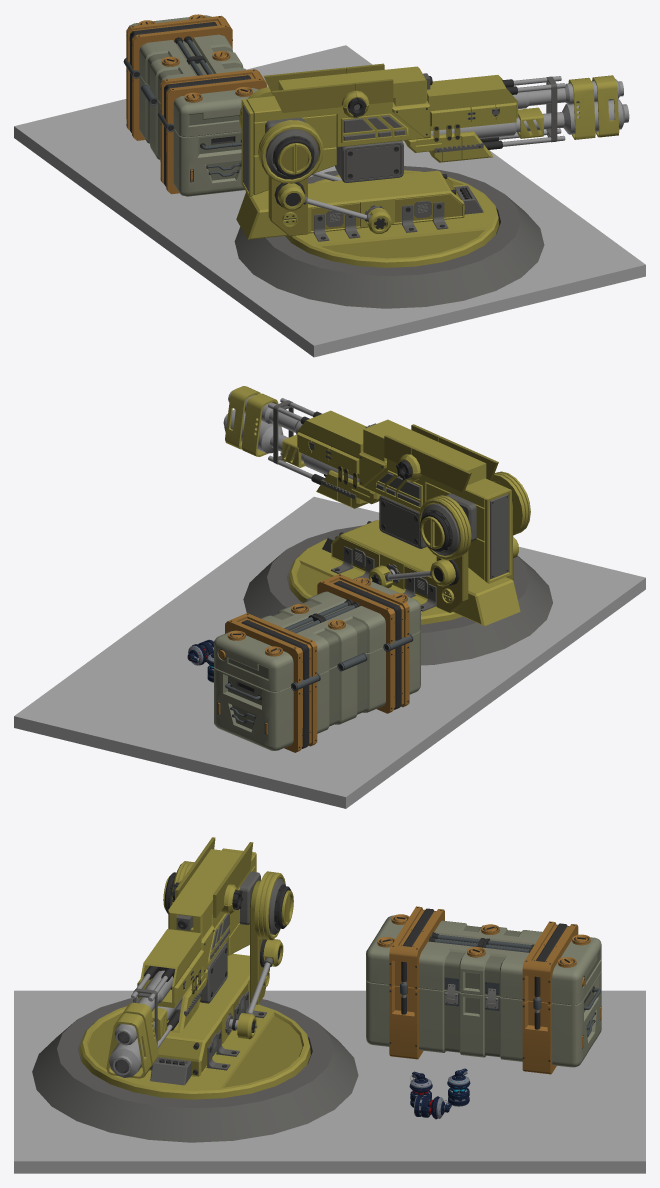
File: All.fbx
The picture shows the model from 3 angles, top to bottom: view 1: azimuth 30°, elevation 25°; view 2: azimuth 150°, elevation 25°; view 3: azimuth 270°, elevation 25°; orthographic projection. The views are drawn at different scales.
Parts seen in each view (by area): view 1: pPlane1, pCylinder22, pCube40, pCylinder23, pCube1, polySurface63, pCube5, pCube9, polySurface28, pCube7, pCube6, pCylinder3 (+14 smaller); view 2: pPlane1, pCube40, pCylinder22, polySurface63, pCube5, pCube1, pCube9, pCylinder23, polySurface28, pCube7, polySurface53, pCube6 (+9 smaller); view 3: pPlane1, pCube40, pCylinder22, pCylinder23, polySurface63, pCube1, pCube7, pCube9, pCube5, polySurface28, polySurface53, pCylinder3 (+11 smaller).
Part boxes in pixels (x1,y1,x2,y2): pPlane1: [14, 45, 645, 357]; pCylinder22: [234, 166, 544, 308]; pCube40: [128, 15, 258, 196]; pCylinder23: [285, 170, 499, 267]; pCube1: [236, 170, 464, 239]; polySurface63: [126, 15, 266, 194]; pCube5: [241, 96, 430, 196]; pCube9: [427, 75, 517, 130]; polySurface28: [263, 63, 393, 112]; pCube7: [278, 66, 426, 106]; pCube6: [335, 141, 403, 182]; pCylinder3: [431, 99, 629, 138]; pPlane1: [14, 496, 645, 808]; pCube40: [214, 577, 420, 750]; pCylinder22: [243, 525, 552, 665]; polySurface63: [225, 574, 409, 752]; pCube5: [359, 451, 511, 583]; pCube1: [331, 520, 520, 625]; pCube9: [297, 410, 366, 478]; pCylinder23: [288, 539, 462, 624]; polySurface28: [384, 424, 498, 492]; pCube7: [363, 419, 486, 485]; polySurface53: [418, 471, 530, 560]; pCube6: [379, 495, 426, 548]; pPlane1: [14, 990, 645, 1173]; pCube40: [366, 915, 601, 1067]; pCylinder22: [32, 997, 358, 1142]; pCylinder23: [79, 1004, 310, 1099]; polySurface63: [389, 906, 578, 1074]; pCube1: [149, 953, 250, 1076]; pCube7: [168, 849, 241, 938]; pCube9: [137, 929, 203, 1008]; pCube5: [197, 848, 256, 977]; polySurface28: [175, 837, 253, 917]; polySurface53: [171, 861, 285, 940]; pCylinder3: [109, 997, 182, 1077].
Size of the model in its own units: 54.28 by 25.91 by 76.88.
